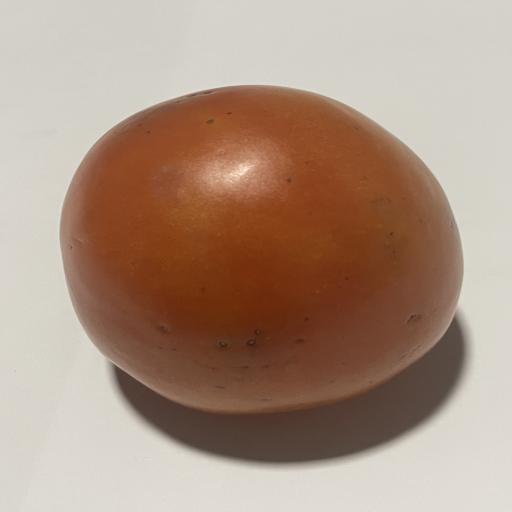unripe: (61, 86, 463, 413)
